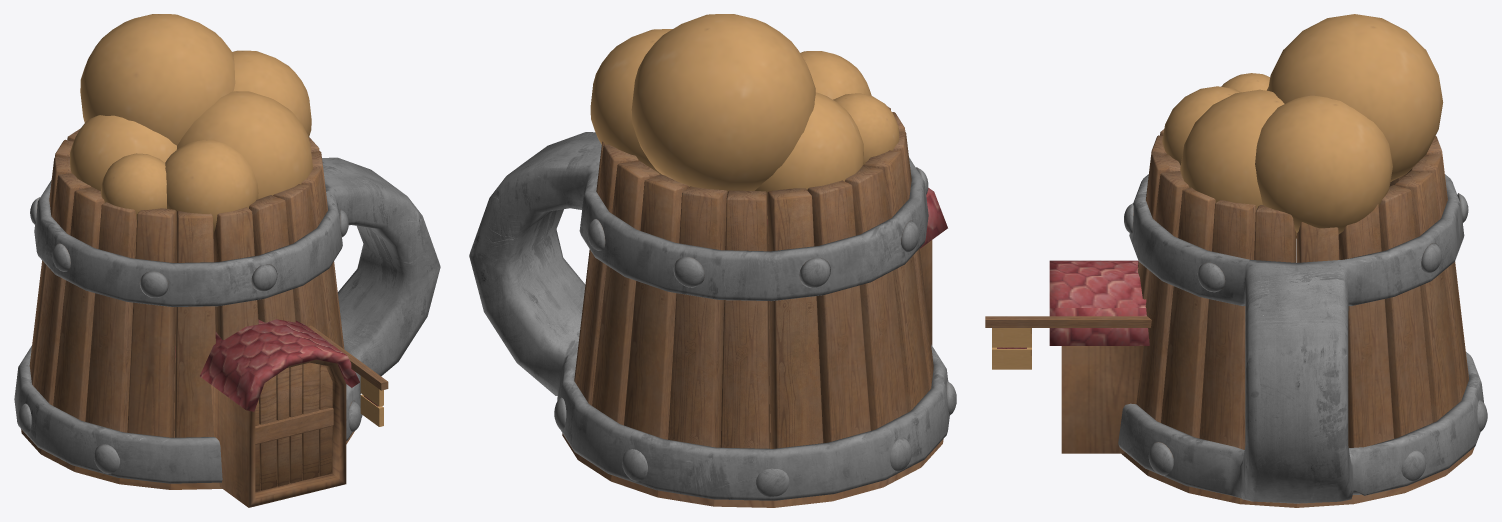
The model's file is Beer Mug.fbx.
3 renders of one model, left to right at view 1: azimuth 30°, elevation 25°; view 2: azimuth 150°, elevation 25°; view 3: azimuth 270°, elevation 25°, orthographic. The views are drawn at different scales.
Parts seen in each view (by area): view 1: Circle.006, Circle.001; view 2: Circle.006, Circle.001; view 3: Circle.006, Circle.001.
Boxes of the visible parts, x1,y1,x2,y2 form: Circle.006: (18,14,388,507); Circle.001: (14,157,440,483); Circle.006: (554,14,956,507); Circle.001: (469,132,949,500); Circle.006: (985,14,1487,507); Circle.001: (1118,174,1484,503).
Bounding box in the file's own units: 332 × 312 × 348.
2 materials, 2 textured.
